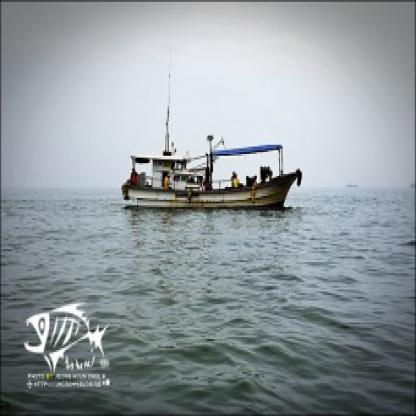fish-b: (114, 130, 308, 218)
